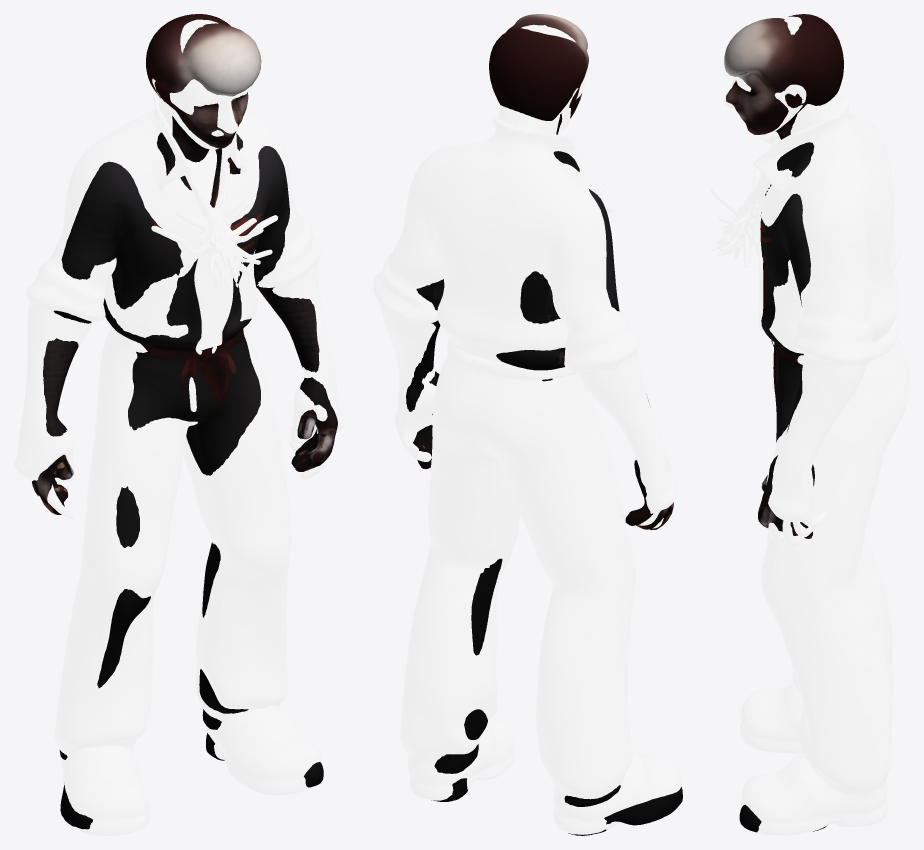
Rendered from cultist_wrapped.glb.
The picture shows the model from 3 angles, left to right: view 1: azimuth 30°, elevation 25°; view 2: azimuth 150°, elevation 25°; view 3: azimuth 270°, elevation 25°; orthographic projection.
Visible parts, largest first — view 1: Outfit, Body; view 2: Outfit, Body; view 3: Outfit, Body.
Part boxes in pixels (box(x1,y1,x2,y2)): Outfit: box(14, 19, 344, 835); Body: box(32, 14, 337, 829); Outfit: box(373, 24, 681, 834); Body: box(406, 14, 682, 835); Outfit: box(711, 16, 909, 835); Body: box(724, 14, 843, 832).
Bounding box in the file's own units: 0.7571 × 1.85 × 0.4366.
2 materials, 1 textured.
